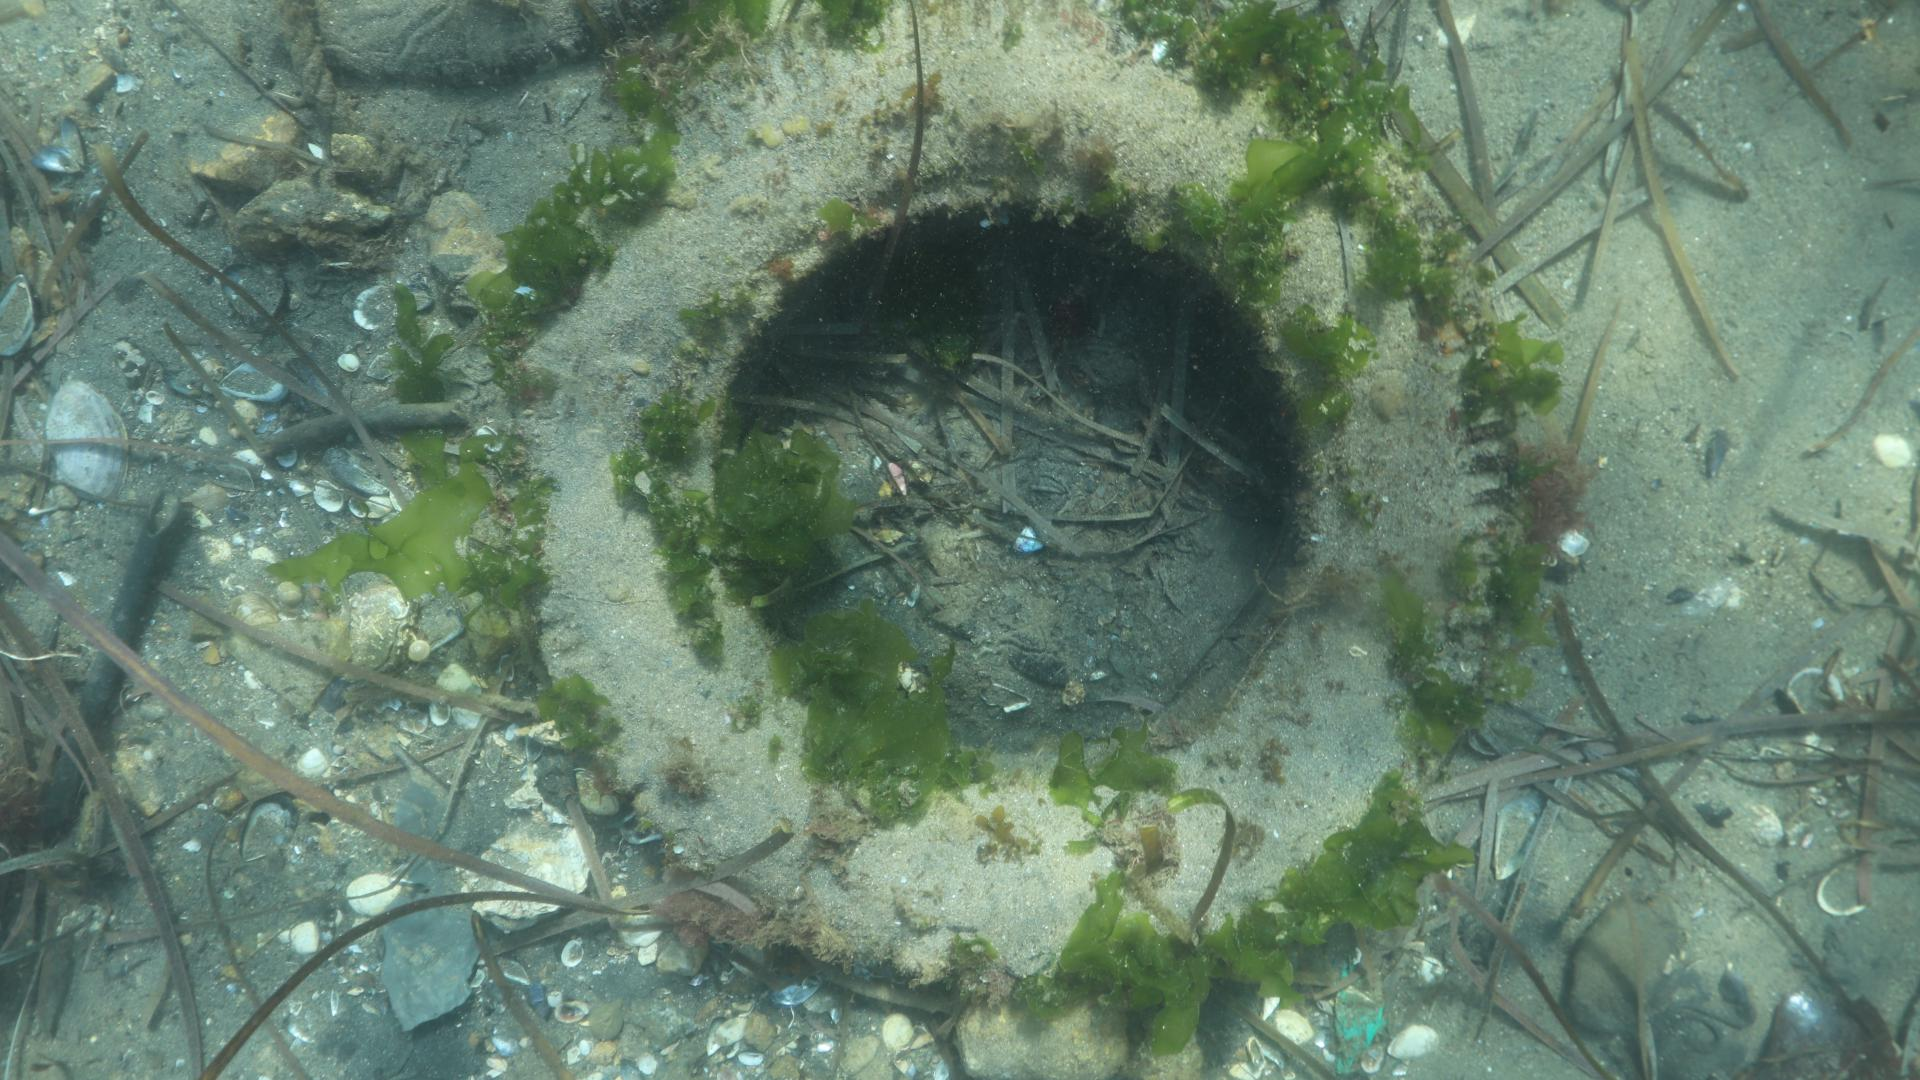tire: (520, 46, 1513, 1010)
